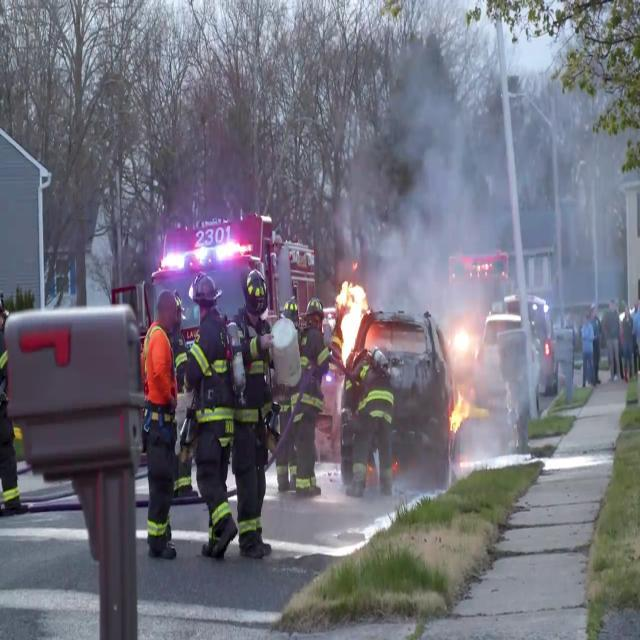Fire: (335, 270, 367, 370), (448, 384, 474, 436)
Smoke: (373, 12, 639, 370)
